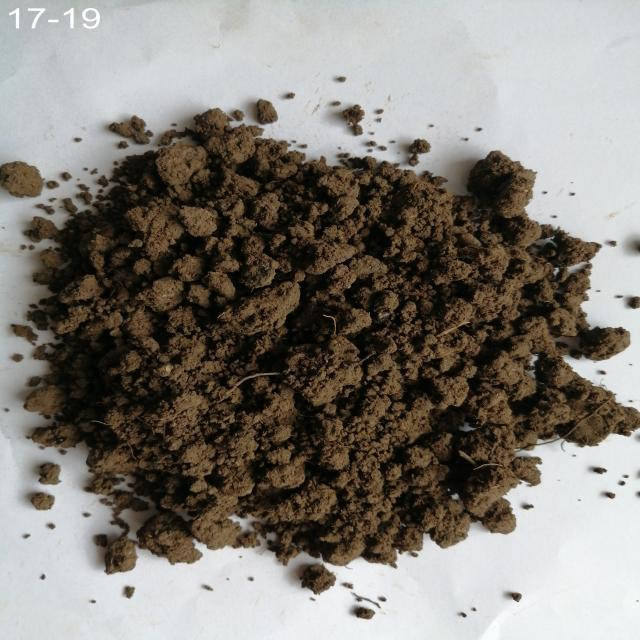soil: (134, 172, 452, 518)
